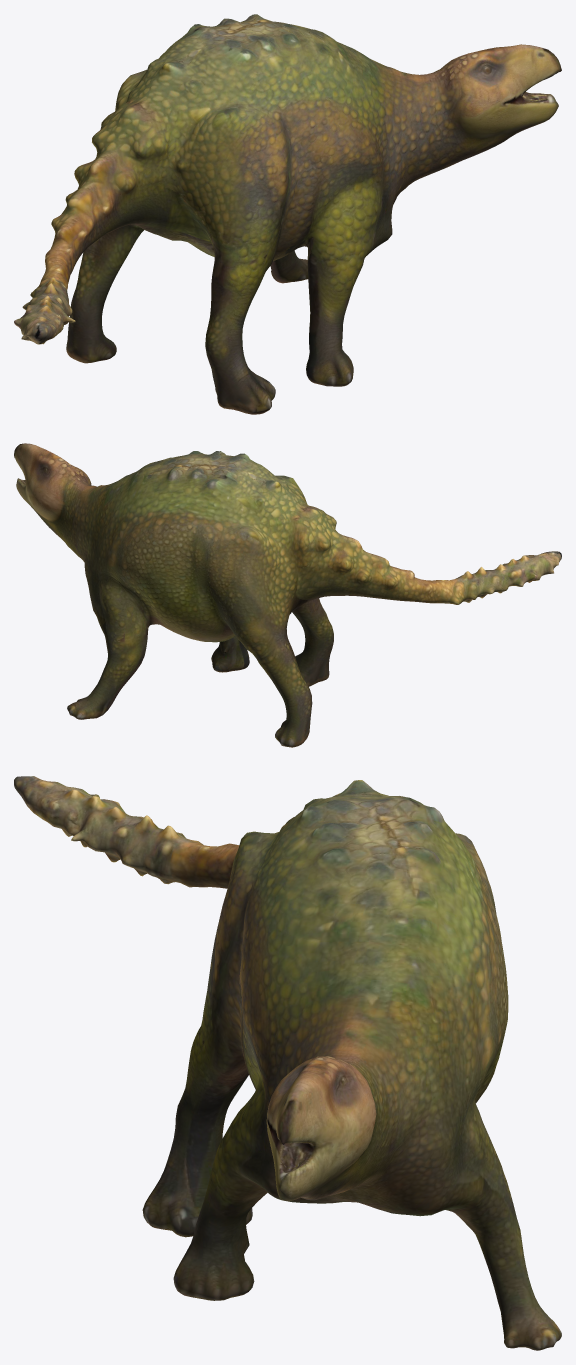
The picture shows the model from 3 angles, top to bottom: view 1: azimuth 30°, elevation 25°; view 2: azimuth 150°, elevation 25°; view 3: azimuth 270°, elevation 25°; orthographic projection. The views are drawn at different scales.
Parts seen in each view (by area): view 1: Mesh0; view 2: Mesh0; view 3: Mesh0.
Boxes of the visible parts, x1=… form: Mesh0: x1=14, y1=14, x2=561, y2=414; Mesh0: x1=14, y1=443, x2=561, y2=747; Mesh0: x1=14, y1=776, x2=561, y2=1350.
Size of the model in its own units: 0.0959 by 0.0469 by 0.0515.
1 material, 1 textured.
